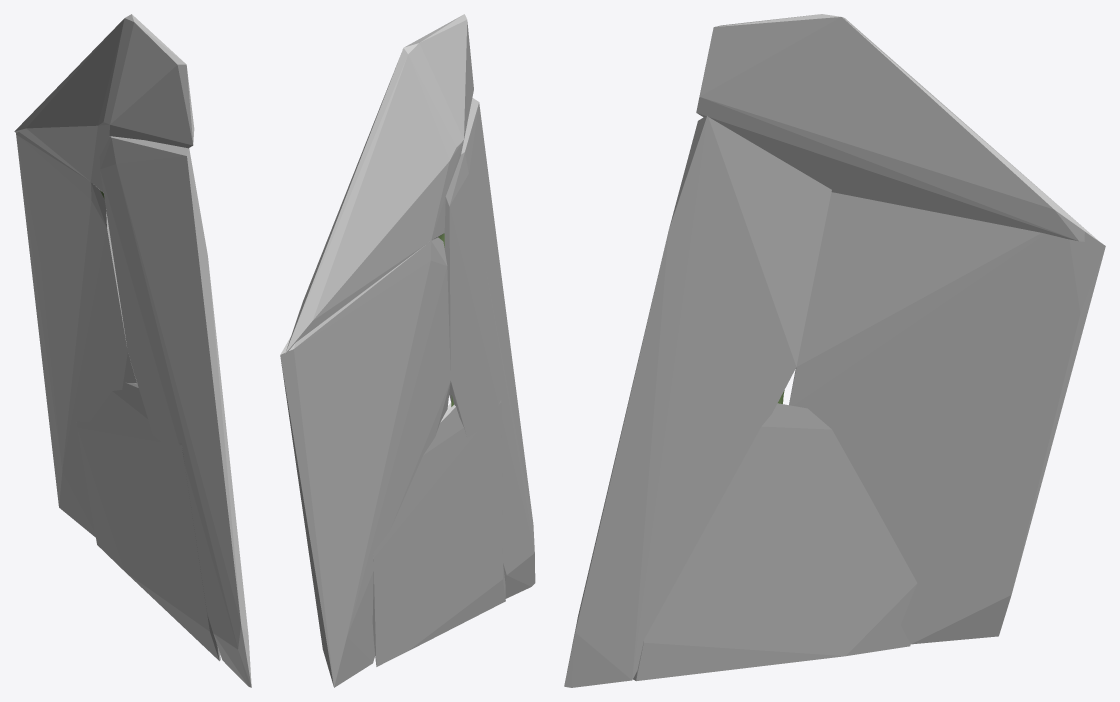
Rendered from SM_Env_Leaves_Clump_05.fbx.
The picture shows the model from 3 angles, left to right: view 1: azimuth 30°, elevation 25°; view 2: azimuth 150°, elevation 25°; view 3: azimuth 270°, elevation 25°; orthographic projection. The views are drawn at different scales.
Parts seen in each view (by area): view 1: SM_Env_Leaves_Clump_05_ConvexHulls; view 2: SM_Env_Leaves_Clump_05_ConvexHulls; view 3: SM_Env_Leaves_Clump_05_ConvexHulls.
Part boxes in pixels (x1,y1,x2,y2): SM_Env_Leaves_Clump_05_ConvexHulls: (14,14,251,687); SM_Env_Leaves_Clump_05_ConvexHulls: (280,14,535,687); SM_Env_Leaves_Clump_05_ConvexHulls: (564,14,1105,687).
Bounding box in the file's own units: 9.83 × 102 × 139.
Materials: 2 (1 with a texture image).
